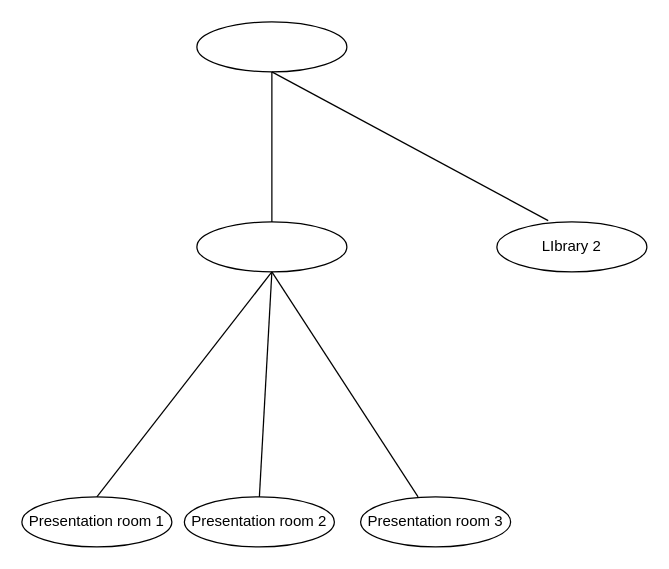
This 669x569 diagram has some shape labels left out. The shapes that lost their labels are listed below. From the top down, each one's box as (x1, y1, x2, y2) in pixels, then its label:
(196, 21, 347, 72): University 1
(196, 221, 347, 272): LIbrary 1
